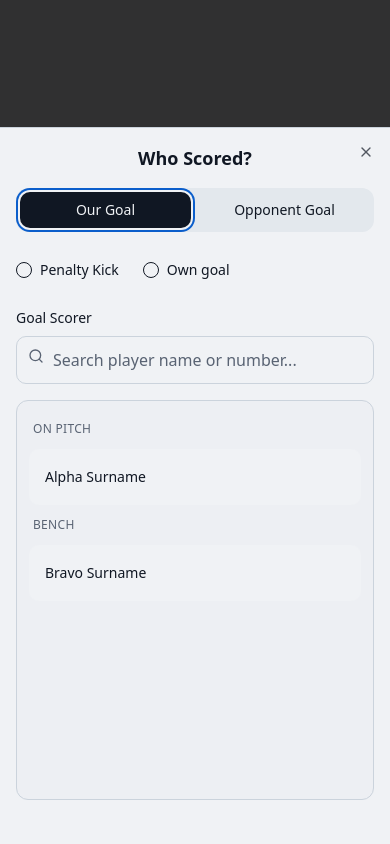
it: QuickGoalButton own goal › unticking Own goal brings the scorer picker back
Click the checkbox named "Own goal" next to "Own goal" at [151, 270], box [143,262,159,278]
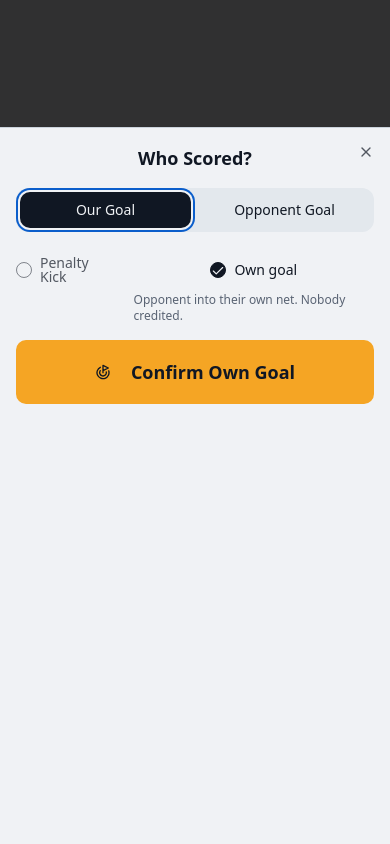
Click the 2nd checkbox named "Own goal" at [218, 270], box [210,262,226,278]
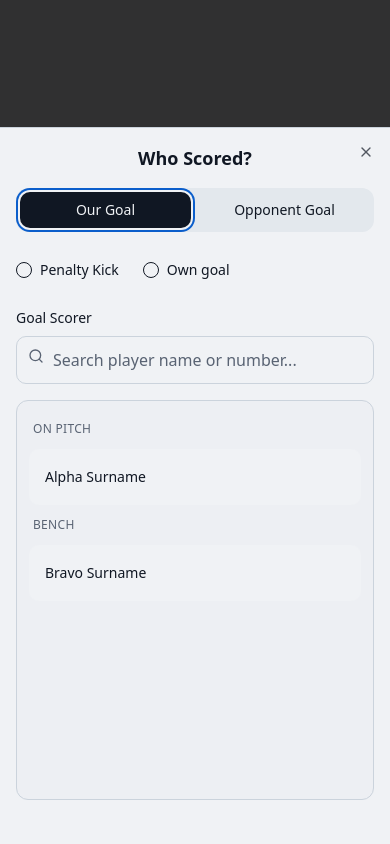
Check: the checkbox named "Penalty Kick" next to "Penalty Kick" is enabled, box [16,262,32,278]
